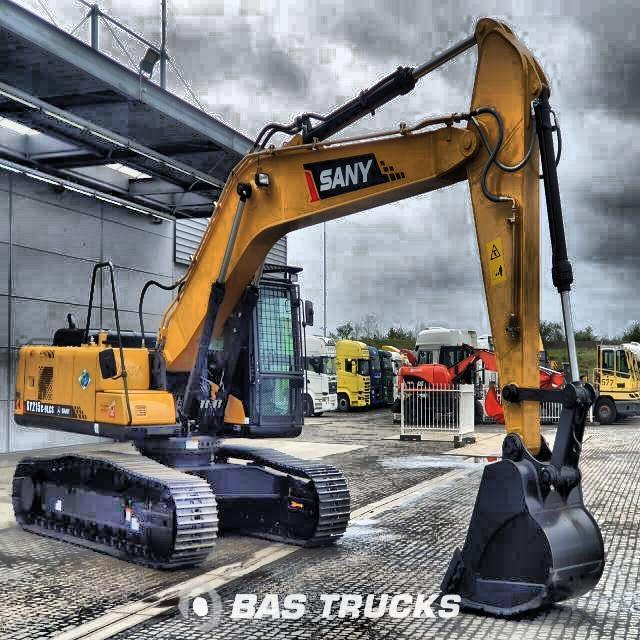excavator: (7, 16, 609, 620)
